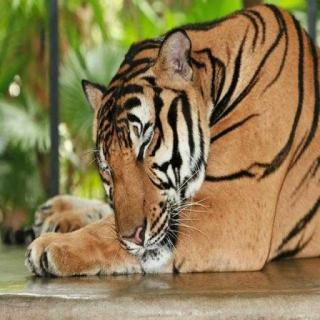Tiger: (25, 0, 320, 281)
